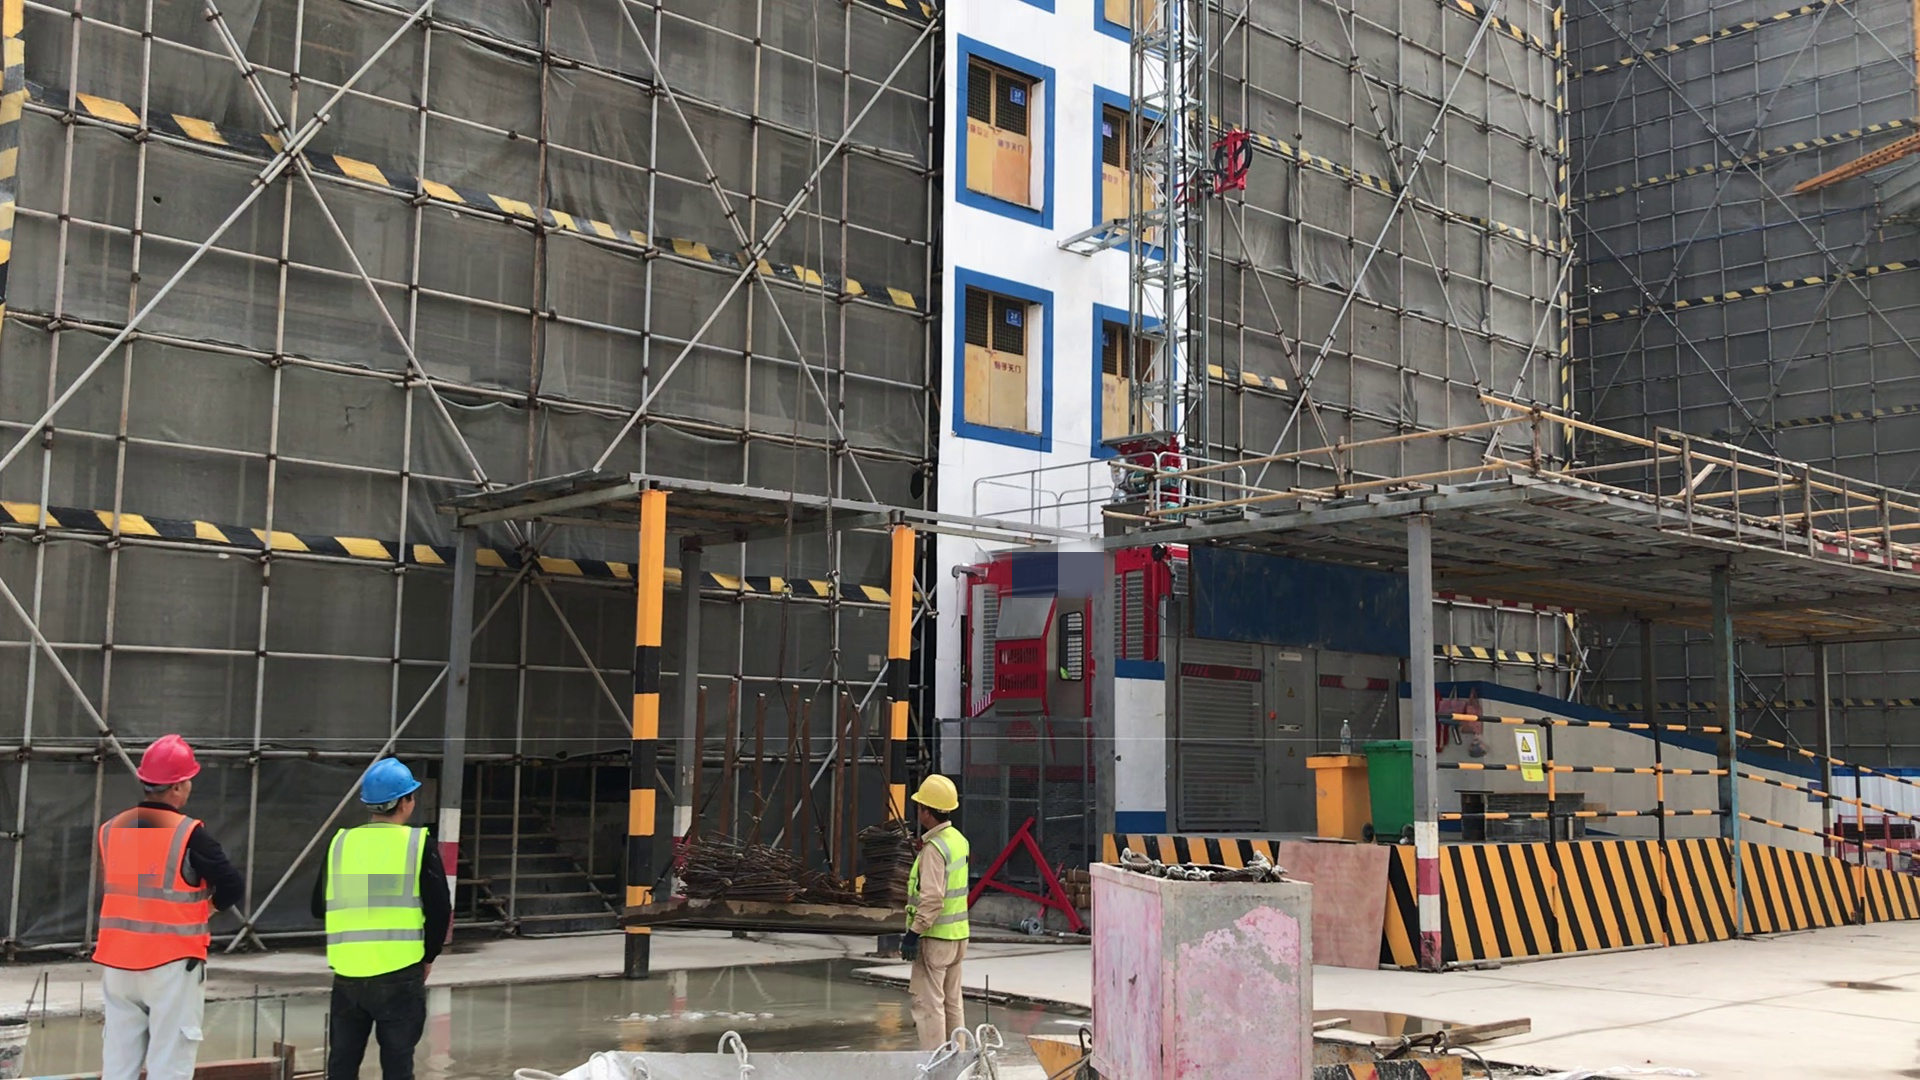helmet: (126, 729, 210, 786), (354, 752, 421, 802), (912, 768, 958, 818)
person: (94, 728, 243, 1077), (312, 744, 462, 1080), (893, 770, 976, 1042)
vest: (98, 807, 218, 978), (325, 813, 438, 989), (904, 823, 976, 955)
